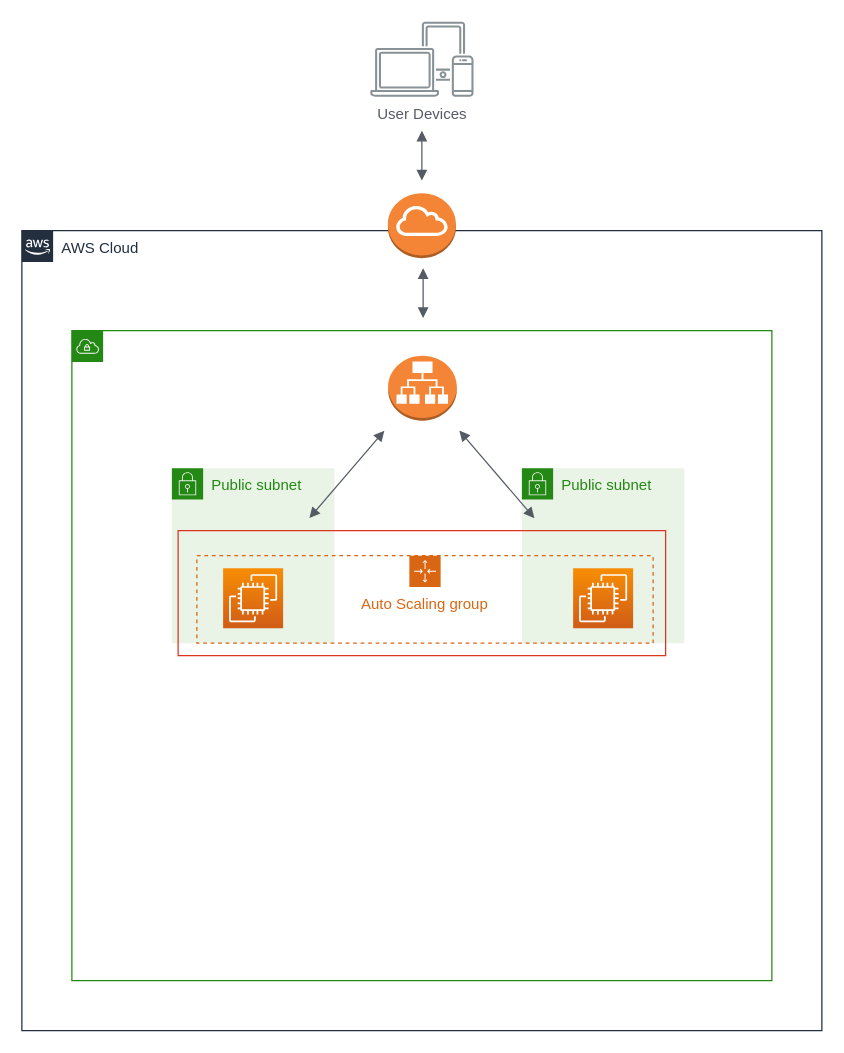
The diagram is 844 pixels wide and 1053 high, and some of its shapes have lost their labels. The box of each missing label's shape, as (x1, y1, x2, y2) in pixels:
Security group: (177, 529, 666, 656)
VPC: (71, 329, 772, 981)
